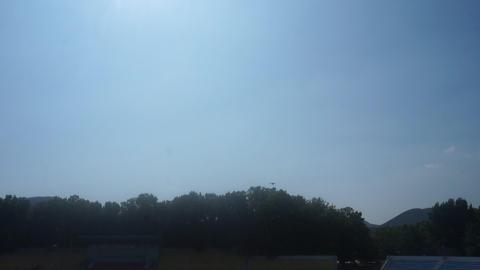UAV: (270, 182, 276, 185)
